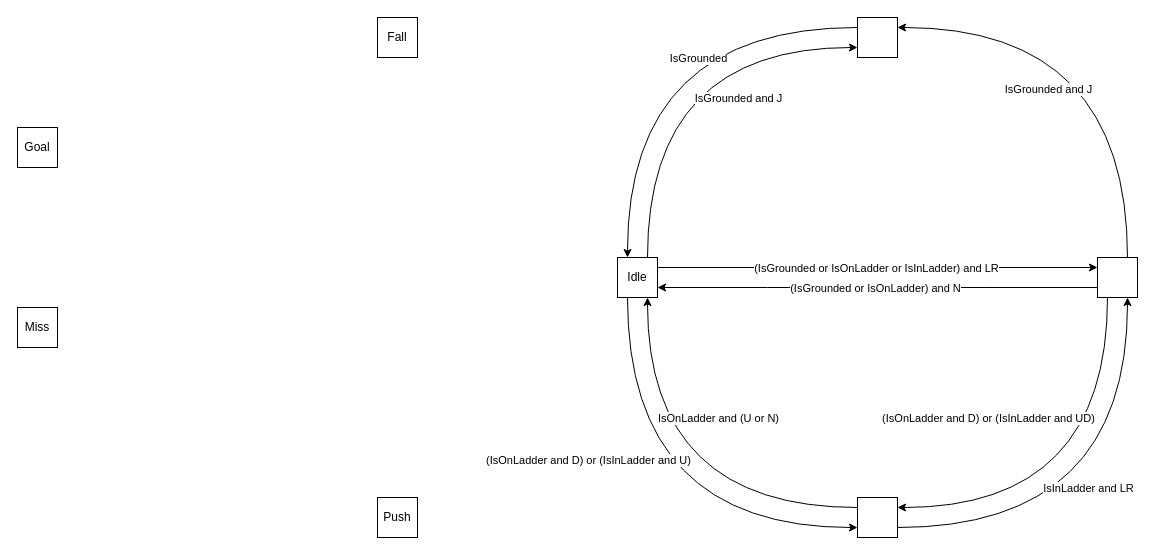
Image size: 1155x555. Some labels were removed from this diagram. Here are the shapes that lost their labels. From the top down, the centre of each, then its label:
At pixel 877 37: "Jump".
At pixel 1117 277: "Walk".
At pixel 877 517: "Climb".
